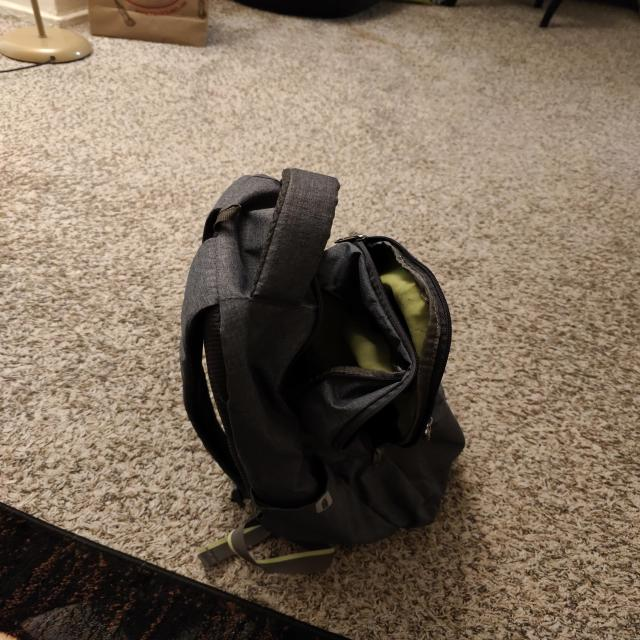bag: (206, 170, 464, 547)
